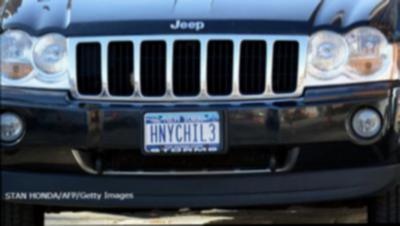License_Plate: (143, 111, 222, 154)
